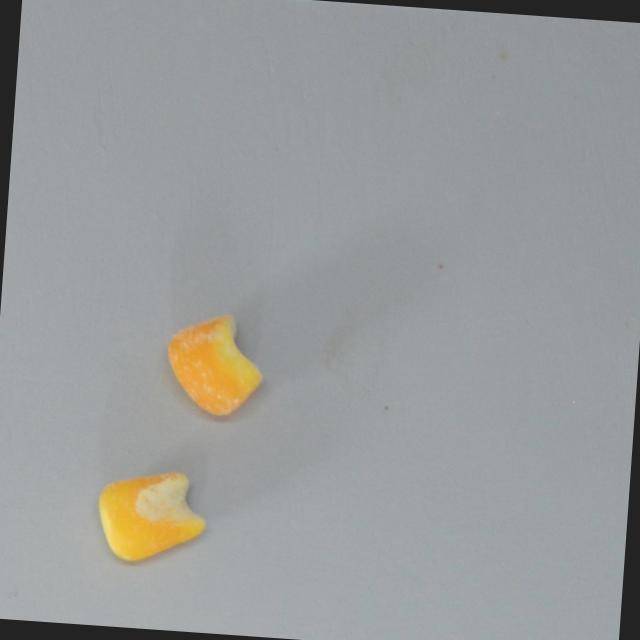no_desgerminado: (91, 463, 210, 567)
pelicula: (162, 307, 268, 417)
